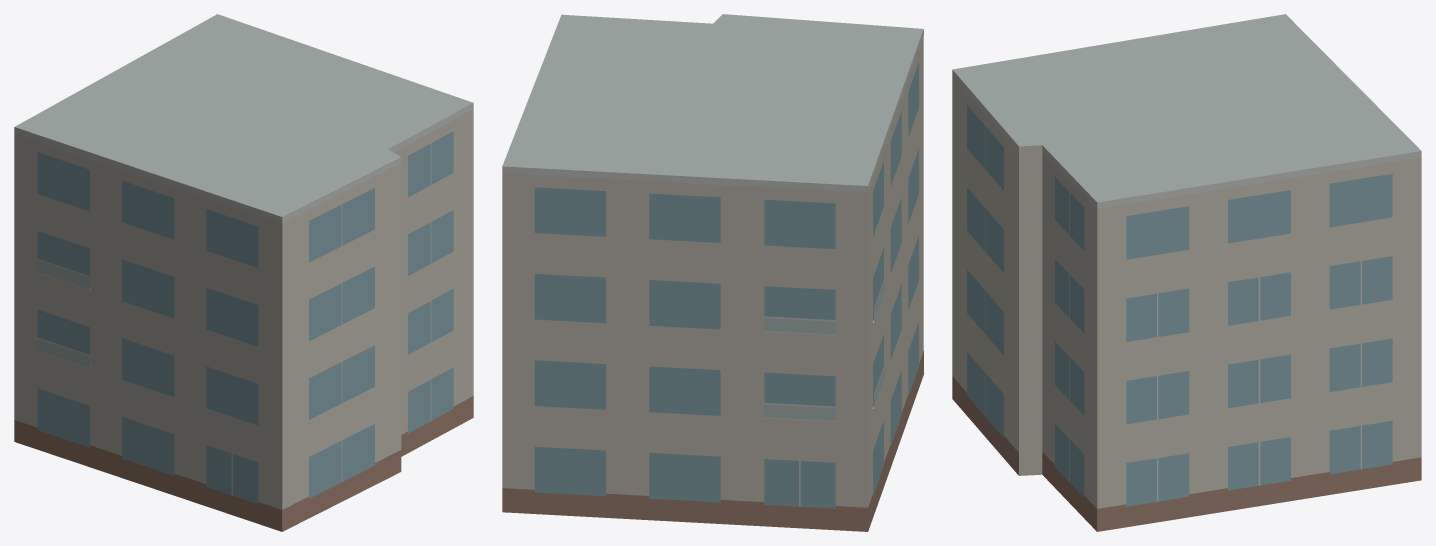
File: survey-upis-32857433.glb
3 views of the same model, side by side, from view 1: azimuth 30°, elevation 25°; view 2: azimuth 150°, elevation 25°; view 3: azimuth 270°, elevation 25° (orthographic). The views are drawn at different scales.
Visible parts, largest first — view 1: survey-upis-32857433.tmp; view 2: survey-upis-32857433.tmp; view 3: survey-upis-32857433.tmp.
Boxes of the visible parts, x1,y1,x2,y2 form: survey-upis-32857433.tmp: (14,14,473,531); survey-upis-32857433.tmp: (502,14,923,531); survey-upis-32857433.tmp: (952,14,1421,531).
Bounding box in the file's own units: 15.35 × 12.5 × 16.15.
